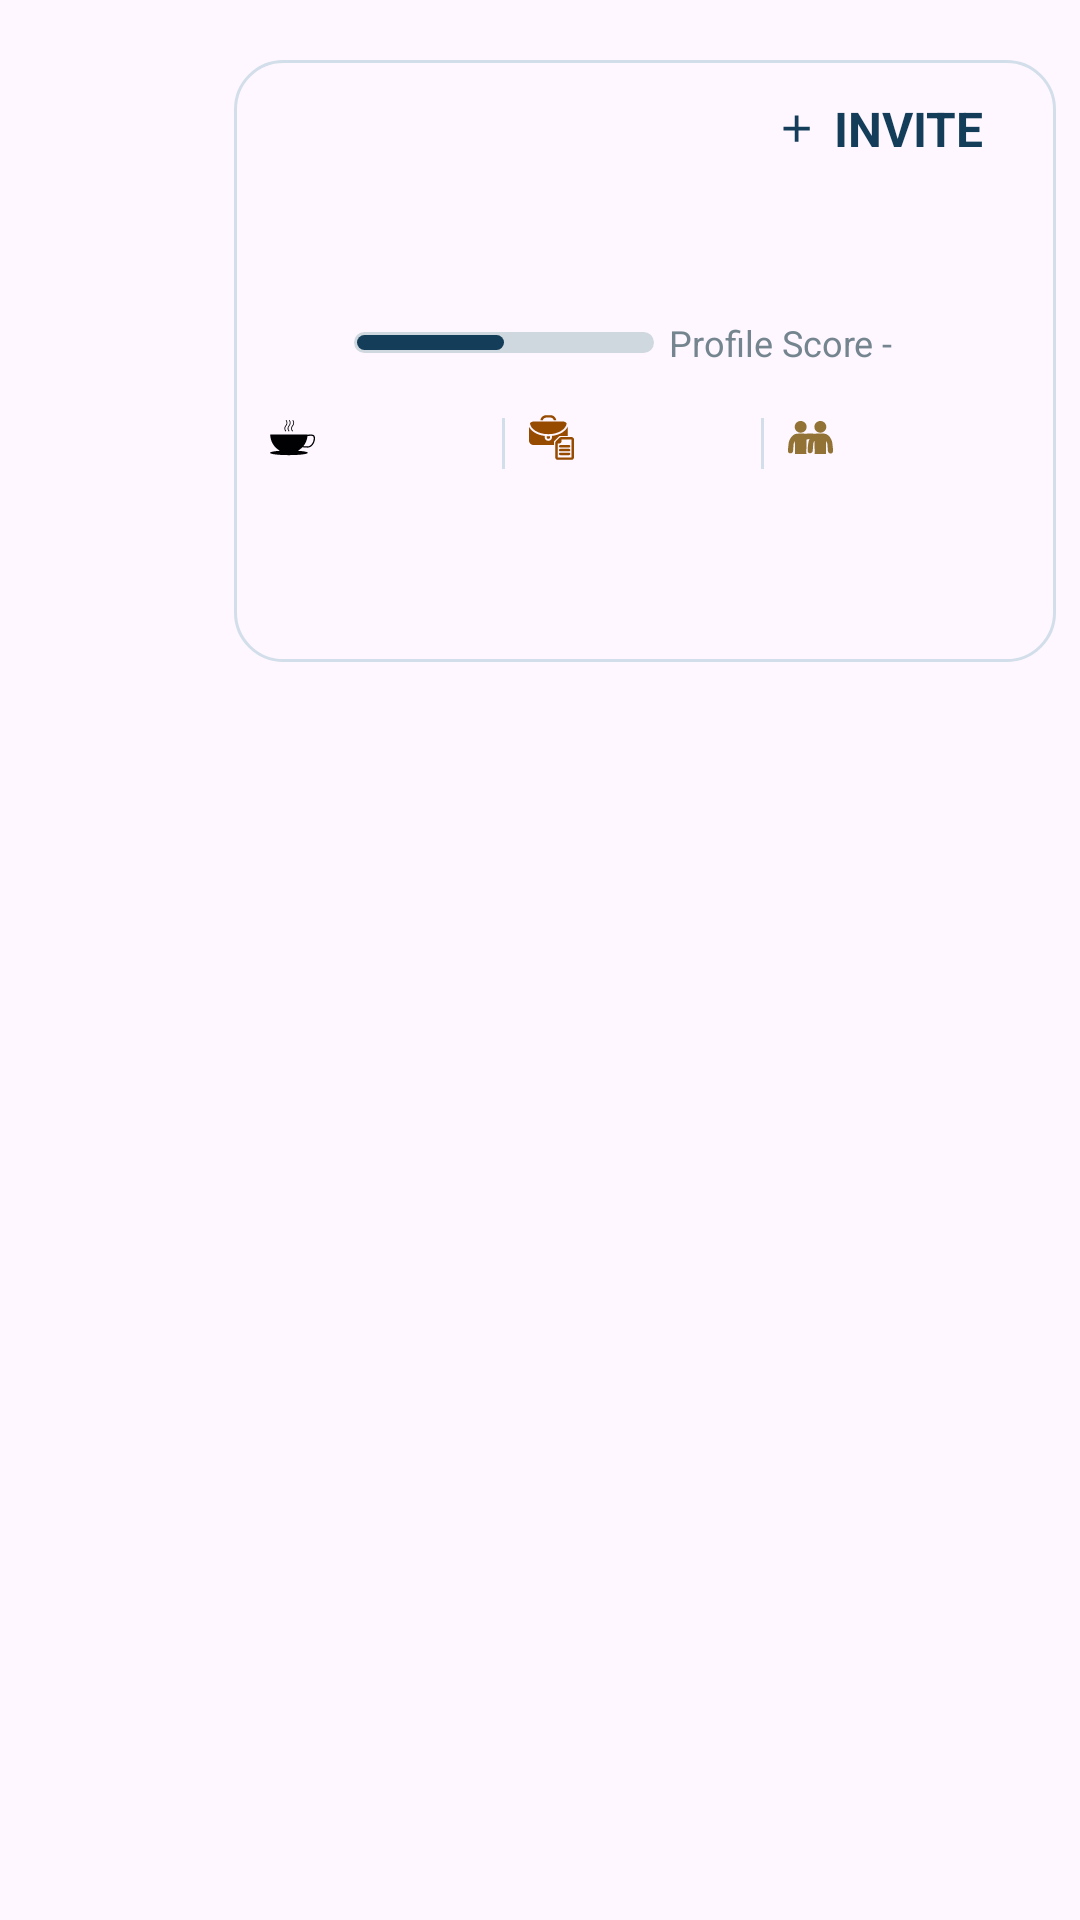

Where to tap for icons on this 1080*1920 app screen, as point (x, y):
add: point (796, 128)
coffee: point (292, 438)
friends: point (810, 437)
job: point (551, 437)
